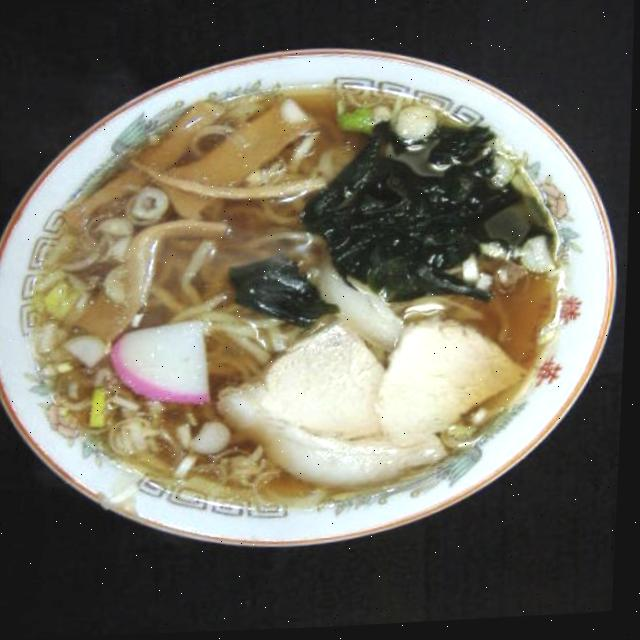面条主食: (0, 30, 638, 562)
